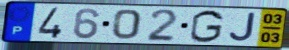0: (110, 9, 144, 41)
2: (147, 8, 180, 43)
4: (37, 7, 64, 39)
6: (71, 7, 102, 40)
G: (188, 9, 226, 44)
J: (227, 11, 257, 43)
